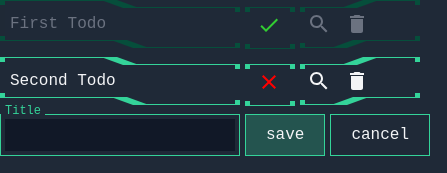
List › should support inline editing
Expected: the form with test id "inline-form" is shown, [0,114,430,156]
Click the text "Second Todo".
click(63, 81)  # box [10,69,116,93]
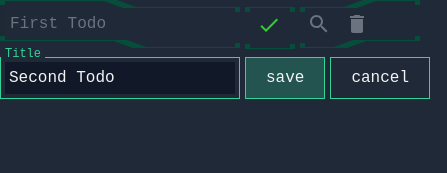
Expected: the form with test id "inline-form-2" is shown, [0,57,430,99]
Expected: the form with test id "inline-form" is gone
